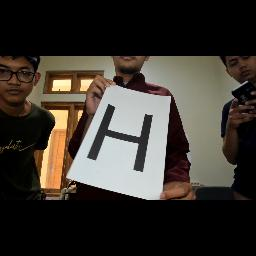h: (85, 102, 157, 178)
